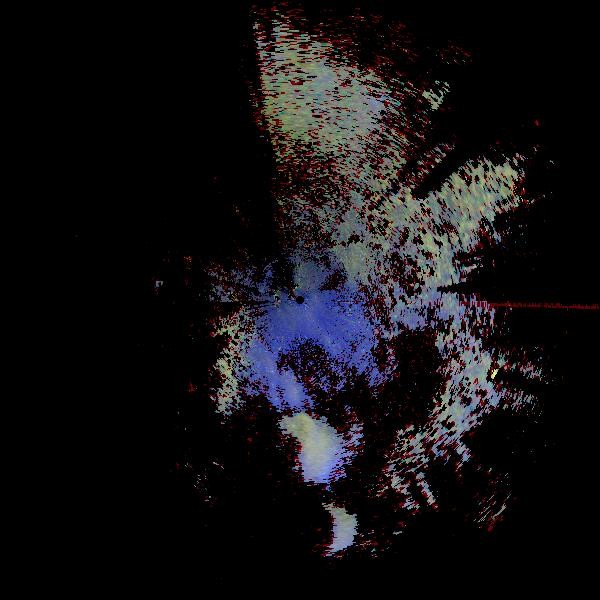roost: (283, 490, 358, 565), (259, 412, 331, 484)
